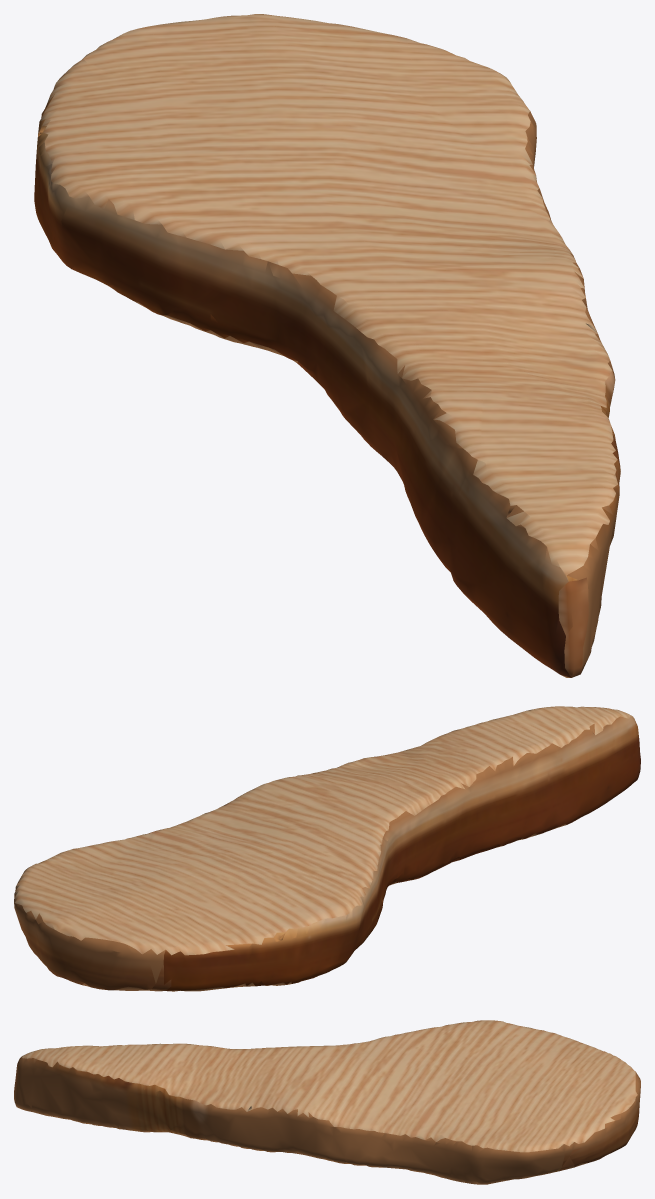
The model's file is Glacier_board07.fbx.
The picture shows the model from 3 angles, top to bottom: view 1: azimuth 30°, elevation 25°; view 2: azimuth 150°, elevation 25°; view 3: azimuth 270°, elevation 25°; orthographic projection. The views are drawn at different scales.
Parts seen in each view (by area): view 1: material_0; view 2: material_0; view 3: material_0.
Part boxes in pixels (x1=…): material_0: x1=34, y1=14, x2=620, y2=677; material_0: x1=14, y1=706, x2=640, y2=991; material_0: x1=14, y1=1020, x2=640, y2=1184.
Size of the model in its own units: 0.1886 by 0.0625 by 0.4236.
